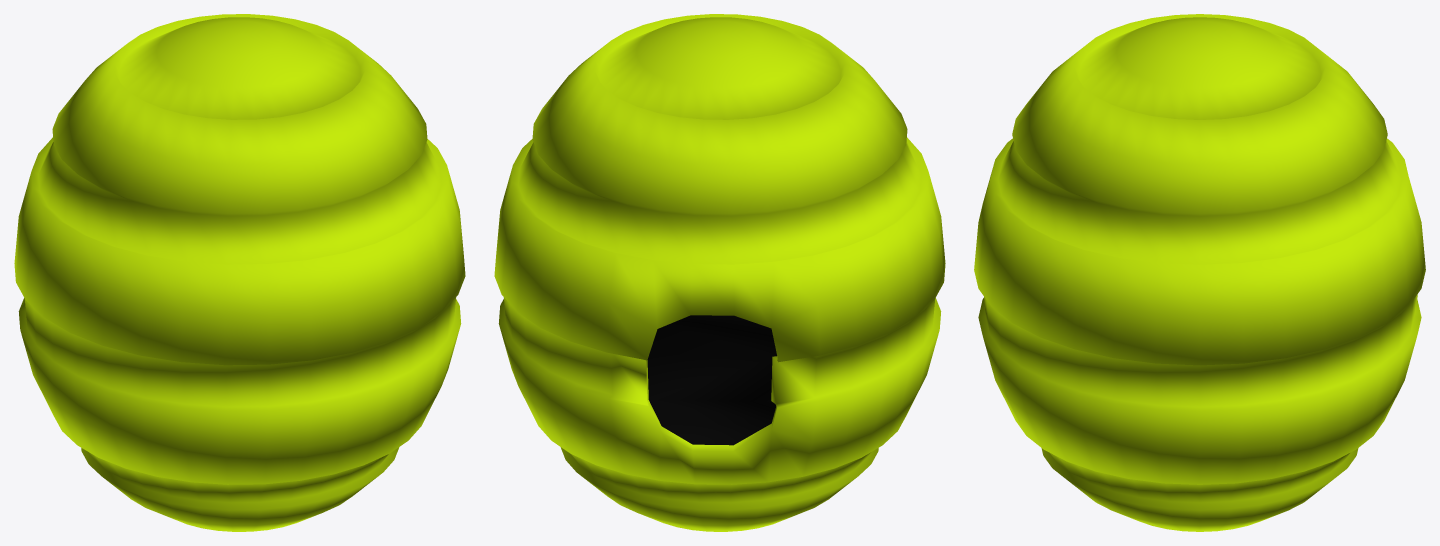
Rendered from BeeHive.fbx.
3 renders of one model, left to right at view 1: azimuth 30°, elevation 25°; view 2: azimuth 150°, elevation 25°; view 3: azimuth 270°, elevation 25°, orthographic.
Parts seen in each view (by area): view 1: Sphere; view 2: Sphere; view 3: Sphere.
Part boxes in pixels (x1,y1,x2,y2): Sphere: (14,14,465,531); Sphere: (494,14,945,531); Sphere: (974,14,1425,531).
Bounding box in the file's own units: 207 × 238 × 207.
